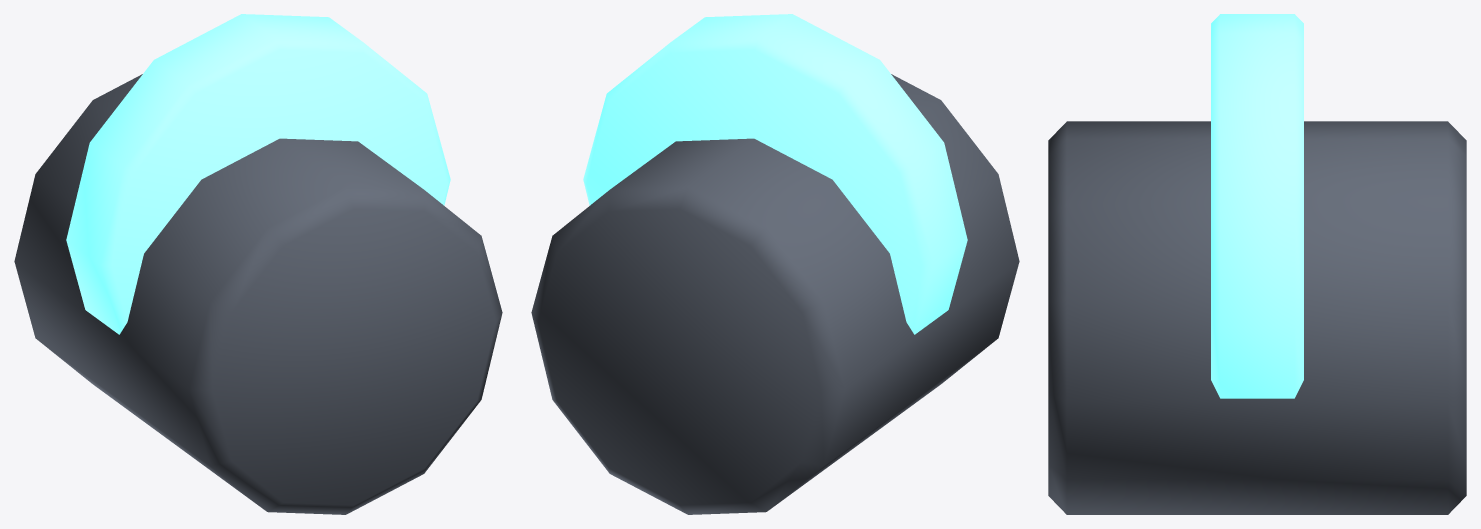
Rendered from magnet_coil.glb.
3 views of the same model, side by side, from view 1: azimuth 30°, elevation 25°; view 2: azimuth 150°, elevation 25°; view 3: azimuth 270°, elevation 25° (orthographic). The views are drawn at different scales.
Visible parts, largest first — view 1: magnet_coil; view 2: magnet_coil; view 3: magnet_coil.
Boxes of the visible parts, box(x1,y1,x2,y2) form: magnet_coil: box(14, 14, 502, 514); magnet_coil: box(531, 14, 1019, 514); magnet_coil: box(1048, 14, 1466, 514).
Size of the model in its own units: 0.19 by 0.22 by 0.18.
